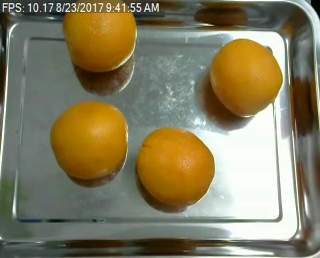Orange: (49, 100, 126, 181), (137, 126, 215, 205), (209, 39, 285, 117), (64, 1, 137, 73)
